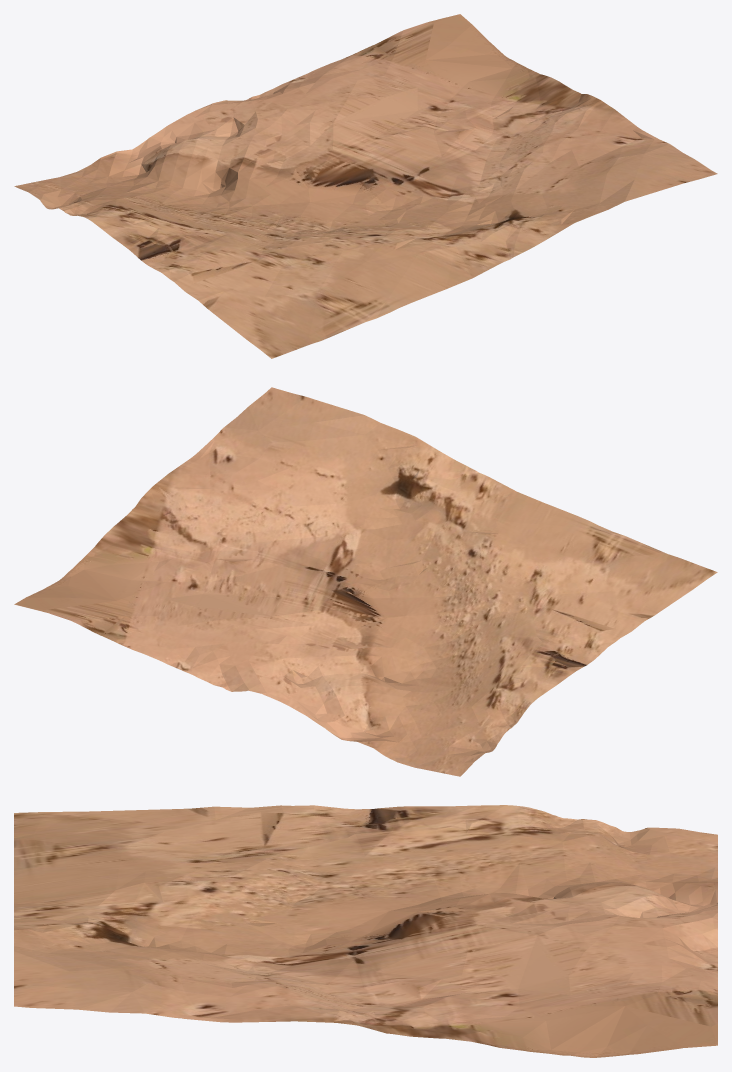
3 views of the same model, one above another, from view 1: azimuth 30°, elevation 25°; view 2: azimuth 150°, elevation 25°; view 3: azimuth 270°, elevation 25° (orthographic). The views are drawn at different scales.
Size of the model in its own units: 2.09 by 0.4206 by 2.09.
2 materials, 2 textured.
